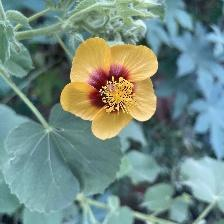indian mallow: (61, 37, 162, 143)
